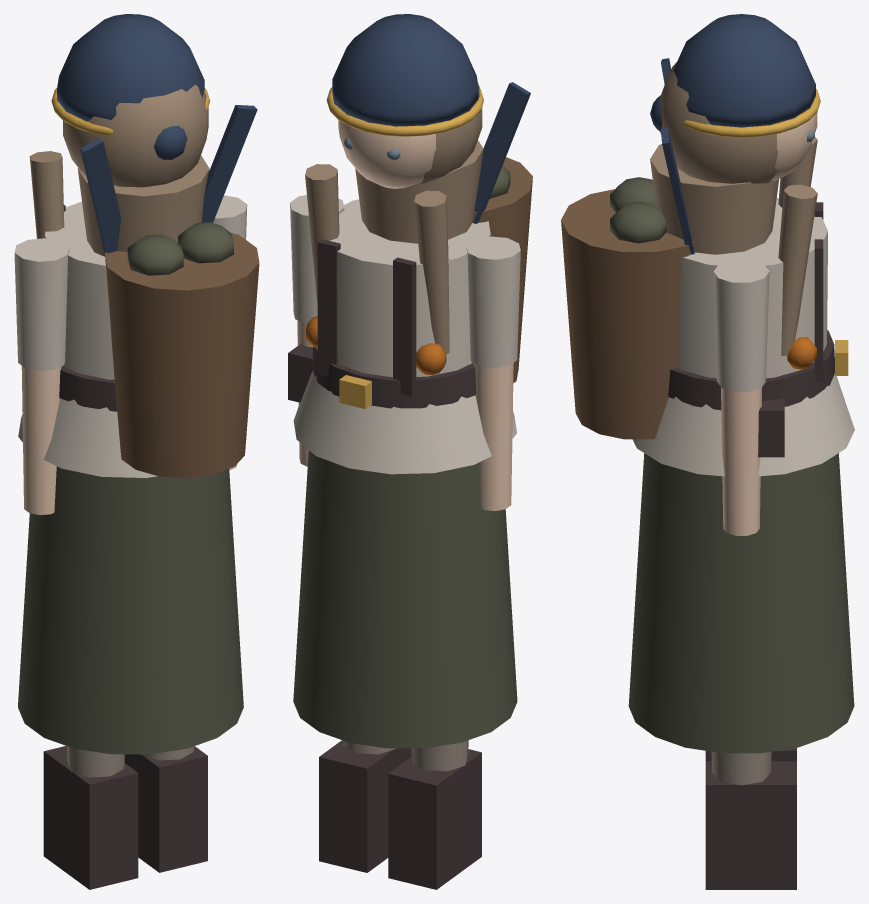
Rendered from oravitsa_blockout.glb.
3 renders of one model, left to right at view 1: azimuth 30°, elevation 25°; view 2: azimuth 150°, elevation 25°; view 3: azimuth 270°, elevation 25°, orthographic.
Visible parts, largest first — view 1: Skirt, Basket, BootL, BandanaCap, Hair, BootR, TunicBody, SleeveL, HairBack, TunicFlare, ForearmL, TailR (+9 smaller); view 2: Skirt, TunicBody, BandanaCap, TunicFlare, BootL, BootR, SleeveL, HairBack, ForearmL, Head, BraidL, Belt (+12 smaller); view 3: Skirt, Basket, BandanaCap, BootR, TunicFlare, TunicBody, HairBack, SleeveR, Hair, ForearmR, BraidR, Belt (+10 smaller).
Part boxes in pixels (x1=…): Skirt: x1=18, y1=466, x2=243, y2=754; Basket: x1=105, y1=233, x2=259, y2=478; BootL: x1=43, y1=746, x2=138, y2=889; BandanaCap: x1=57, y1=14, x2=204, y2=121; Hair: x1=63, y1=84, x2=208, y2=187; BootR: x1=124, y1=746, x2=207, y2=872; TunicBody: x1=45, y1=201, x2=213, y2=379; SleeveL: x1=14, y1=238, x2=69, y2=370; HairBack: x1=77, y1=155, x2=209, y2=256; TunicFlare: x1=18, y1=398, x2=157, y2=477; ForearmL: x1=21, y1=366, x2=61, y2=515; TailR: x1=201, y1=105, x2=257, y2=222; Skirt: x1=293, y1=450, x2=517, y2=748; TunicBody: x1=329, y1=199, x2=490, y2=377; BandanaCap: x1=332, y1=14, x2=478, y2=126; TunicFlare: x1=293, y1=371, x2=516, y2=474; BootL: x1=388, y1=749, x2=481, y2=889; BootR: x1=319, y1=740, x2=411, y2=872; SleeveL: x1=466, y1=236, x2=520, y2=367; HairBack: x1=355, y1=140, x2=483, y2=243; ForearmL: x1=474, y1=363, x2=513, y2=510; Head: x1=338, y1=120, x2=435, y2=188; BraidL: x1=414, y1=190, x2=449, y2=353; Belt: x1=312, y1=346, x2=476, y2=408; Skirt: x1=628, y1=453, x2=854, y2=753; Basket: x1=561, y1=189, x2=694, y2=439; BandanaCap: x1=673, y1=14, x2=815, y2=127; BootR: x1=705, y1=761, x2=796, y2=889; TunicFlare: x1=632, y1=373, x2=854, y2=476; TunicBody: x1=678, y1=198, x2=827, y2=378; HairBack: x1=650, y1=144, x2=778, y2=254; SleeveR: x1=713, y1=260, x2=769, y2=391; Hair: x1=660, y1=62, x2=778, y2=183; ForearmR: x1=721, y1=387, x2=761, y2=535; BraidR: x1=778, y1=184, x2=817, y2=355; Belt: x1=668, y1=330, x2=834, y2=410.
Size of the model in its own units: 0.4235 by 1.52 by 0.482.
